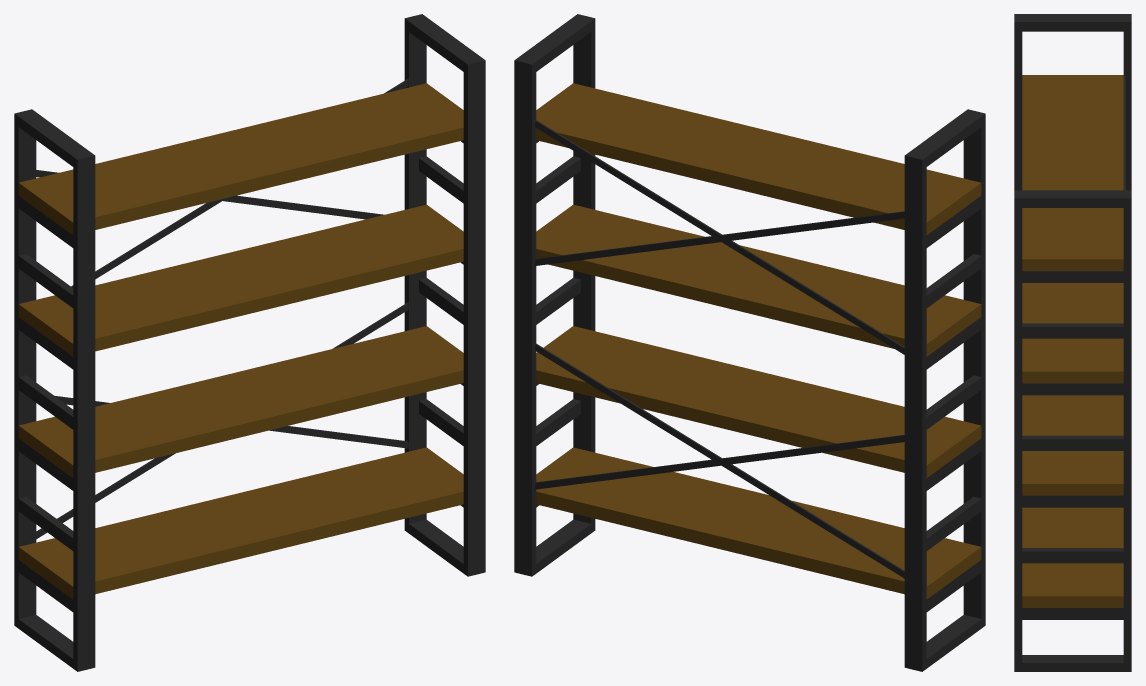
File: BookShelf_1.fbx
3 renders of one model, left to right at view 1: azimuth 30°, elevation 25°; view 2: azimuth 150°, elevation 25°; view 3: azimuth 270°, elevation 25°, orthographic. The views are drawn at different scales.
Visible parts, largest first — view 1: BookShelf1; view 2: BookShelf1; view 3: BookShelf1.
Part boxes in pixels (<box>): BookShelf1: <box>14,14,485,671</box>; BookShelf1: <box>514,14,985,671</box>; BookShelf1: <box>1014,14,1131,671</box>.
Bounding box in the file's own units: 326 × 391 × 87.55.
